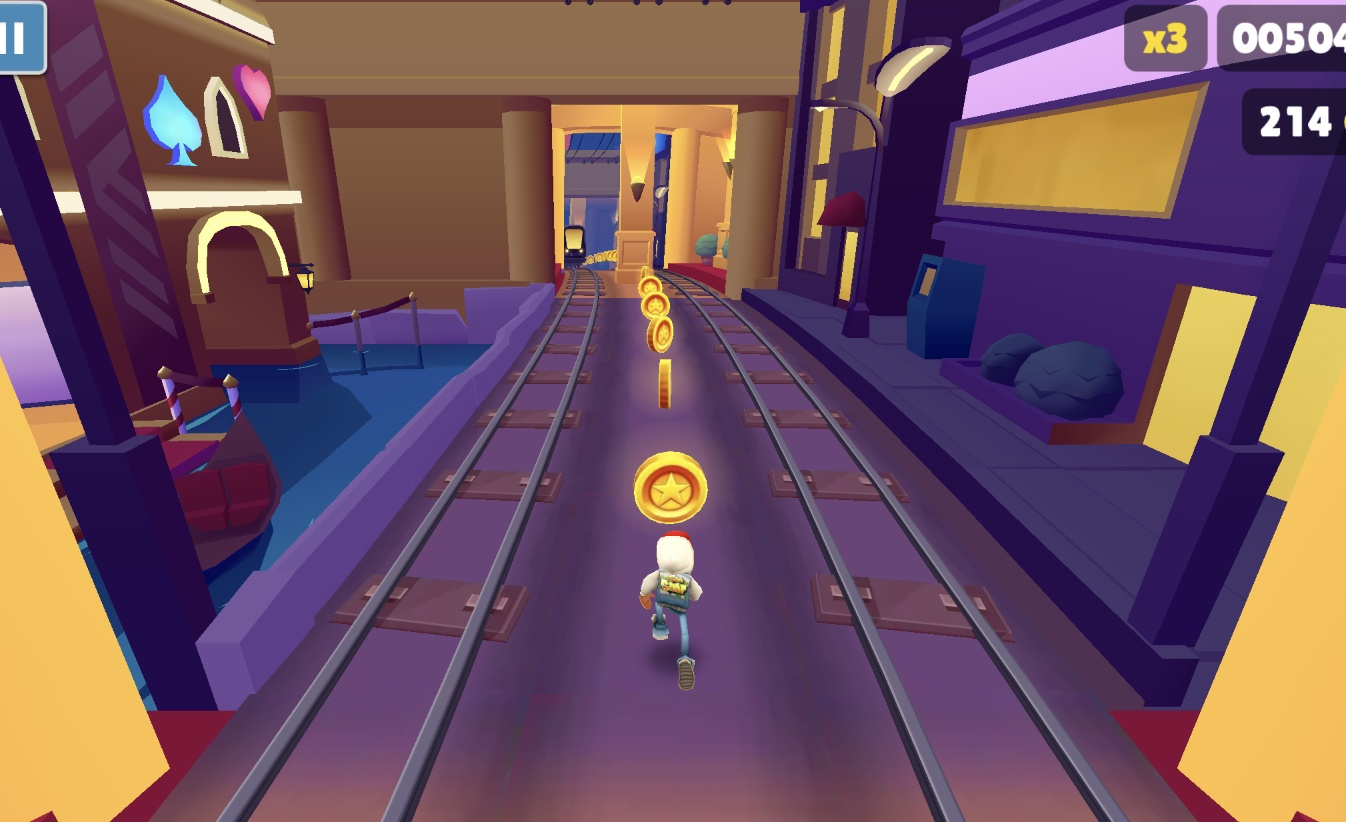pillar: (616, 106, 666, 286)
train: (566, 220, 588, 262)
